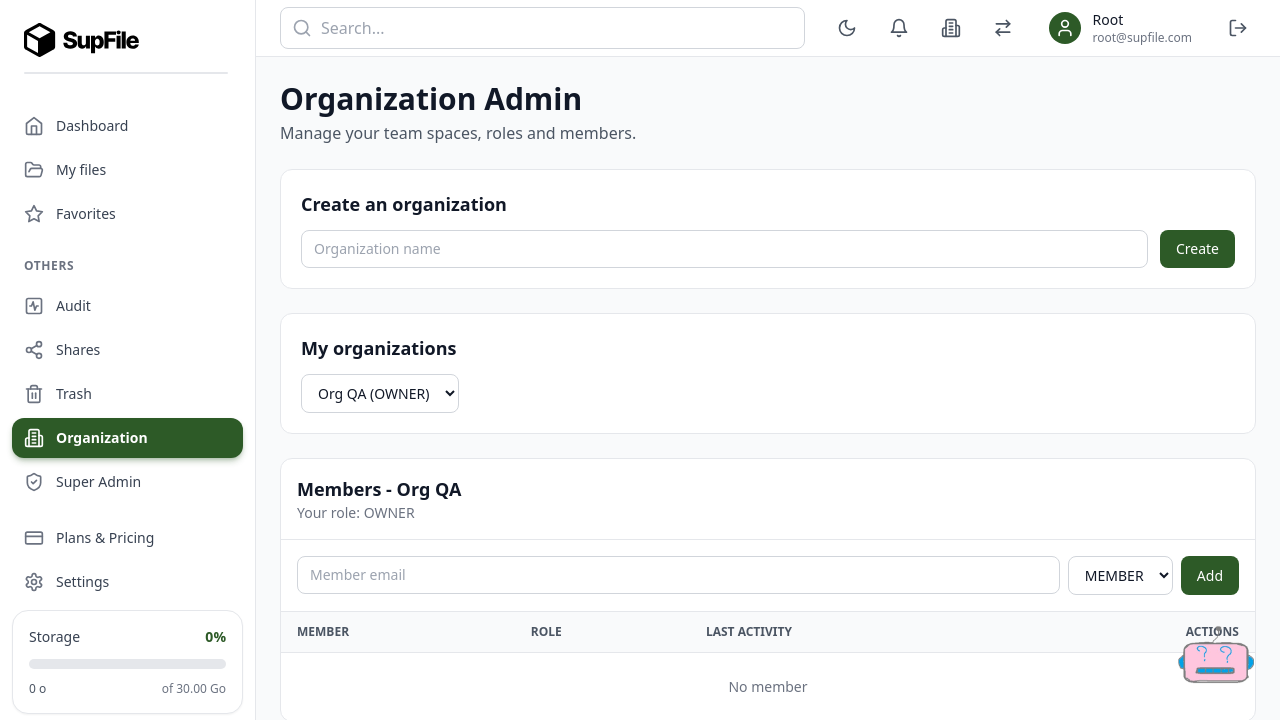
it: Account Switcher Modal › links an account and sends expected payload
Click the button titled "Switch de comptes": (1003, 28) [985,10,1021,46]
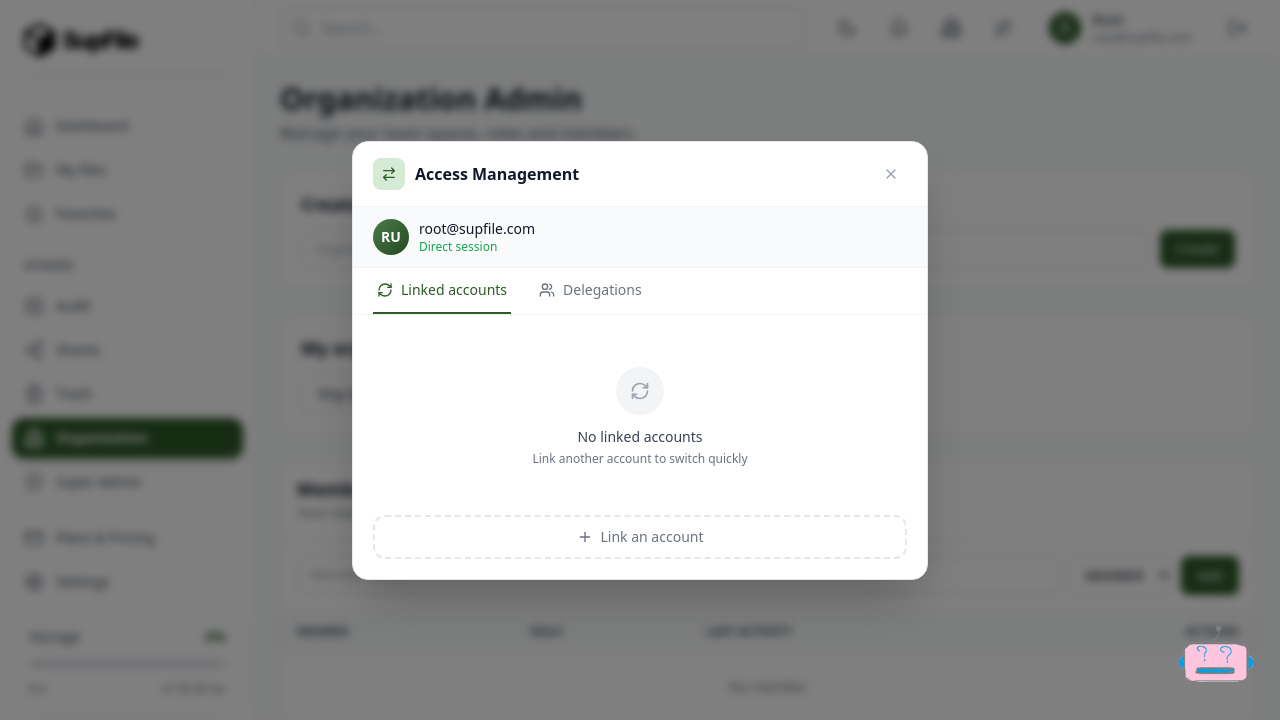
Click the button "Link an account": (640, 537) [373,515,907,559]
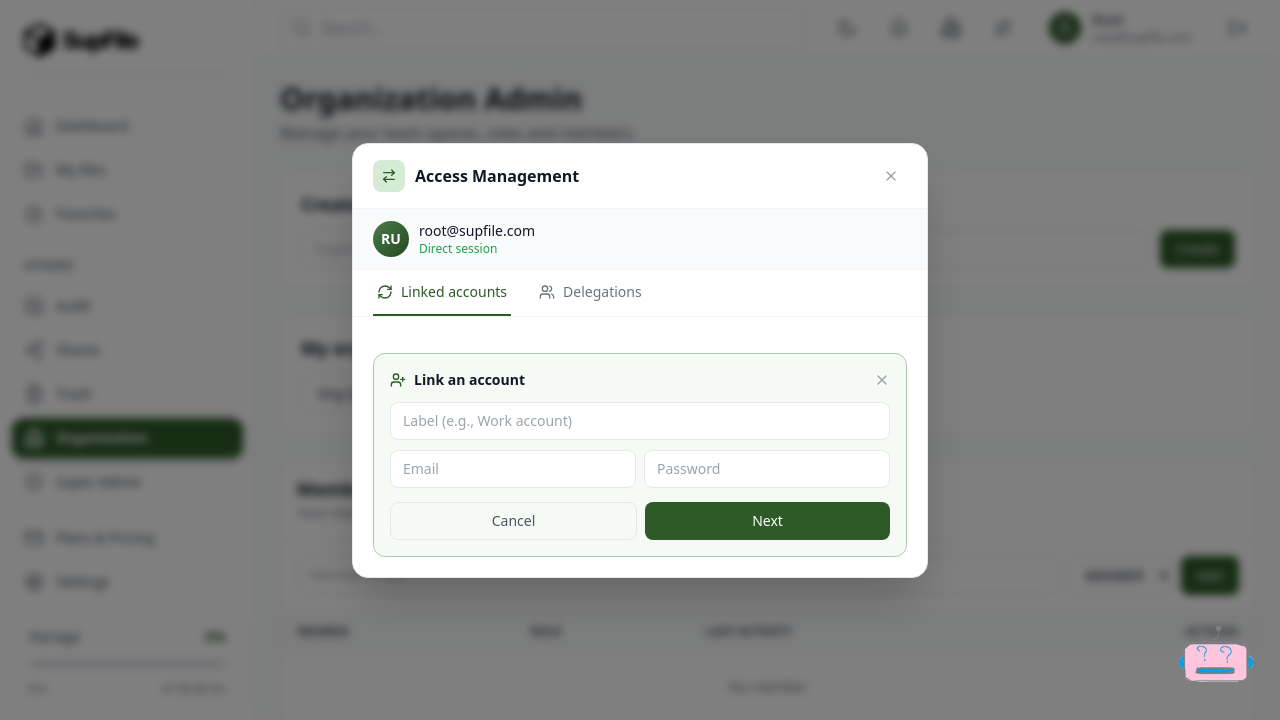
In the field with placeholder "Email": (513, 469) [390,450,636,488], type "linked@example.com"
In the password field with placeholder "Password": (767, 469) [644,450,890,488], type "password123"
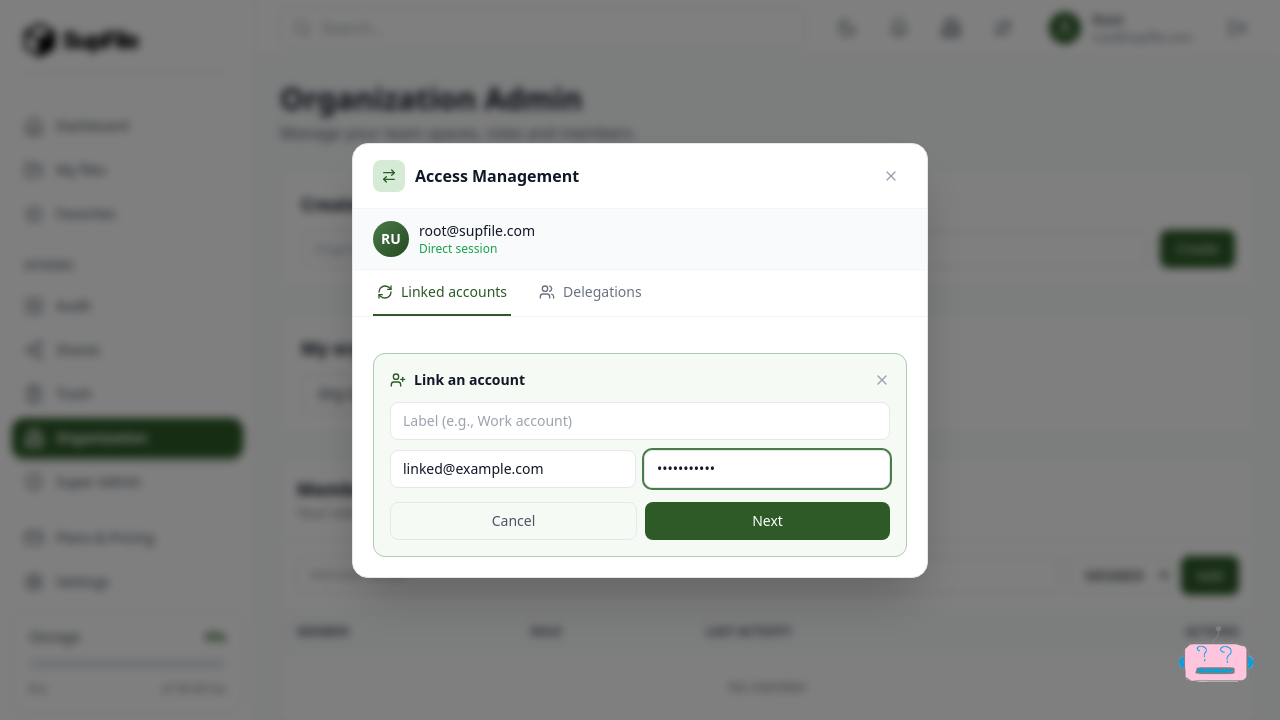
In the field with placeholder "Label (e.g., Work account)": (640, 421) [390,402,890,440], type "Compte secondaire"
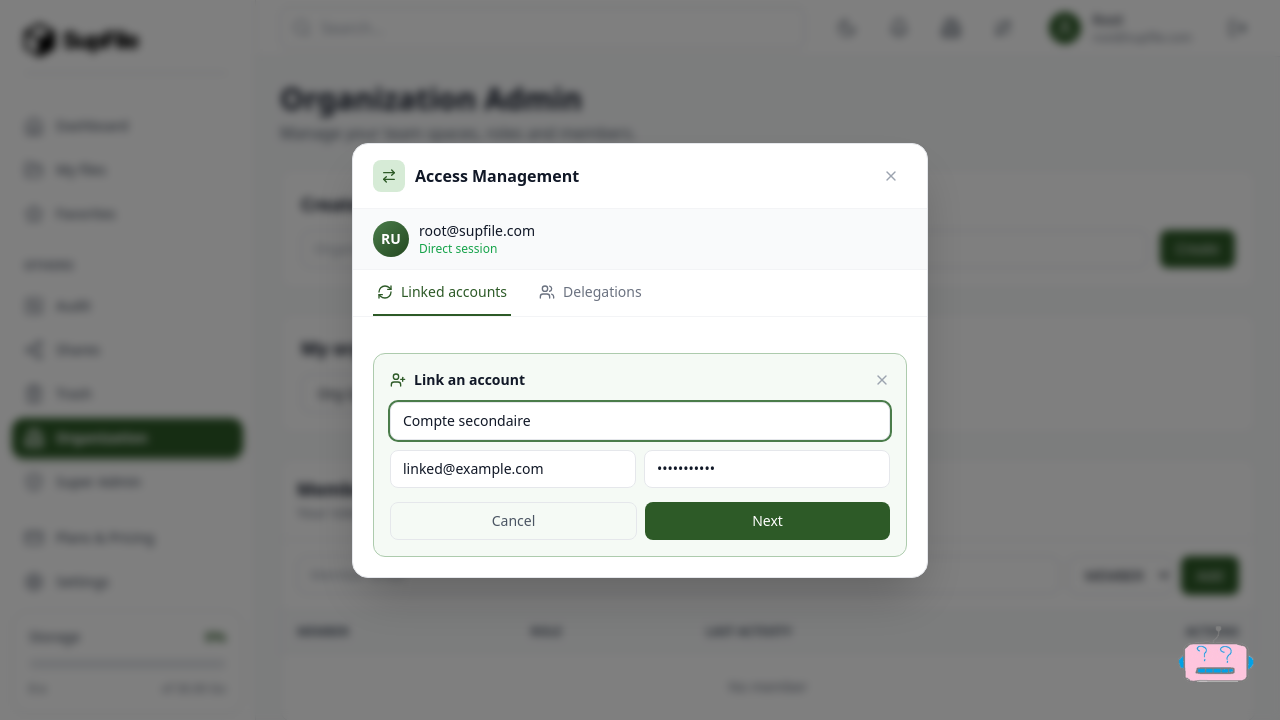
Click the button "Next": (768, 521) [645,502,890,540]
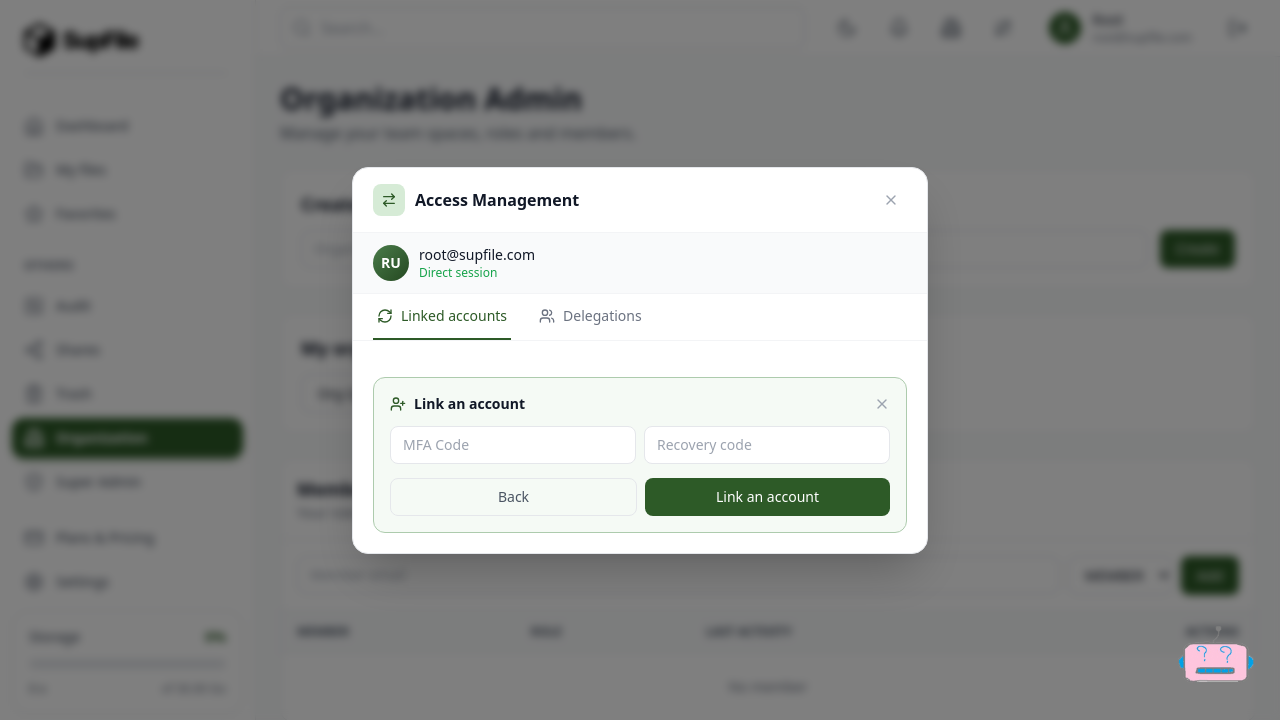
In the field with placeholder "MFA Code": (513, 445) [390,426,636,464], type "123456"
Click the button "Link an account": (768, 497) [645,478,890,516]
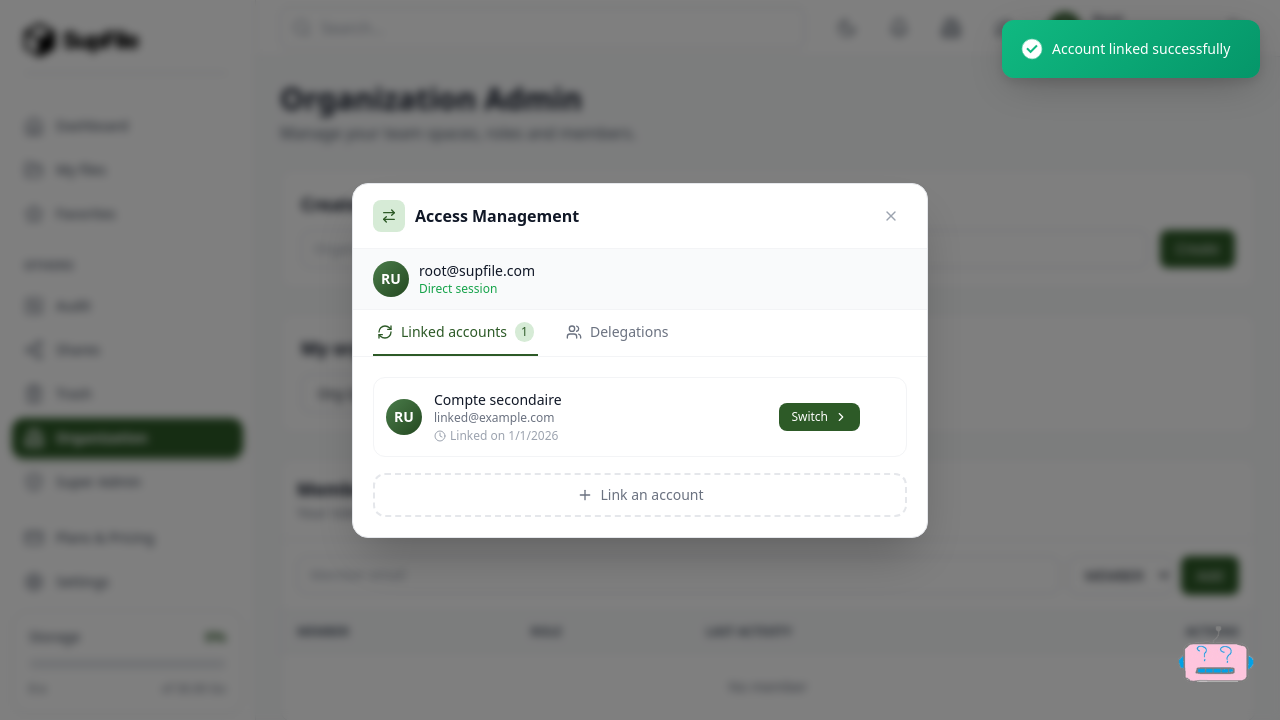
Now the text "linked@example.com" is shown, box [434,408,554,426]
